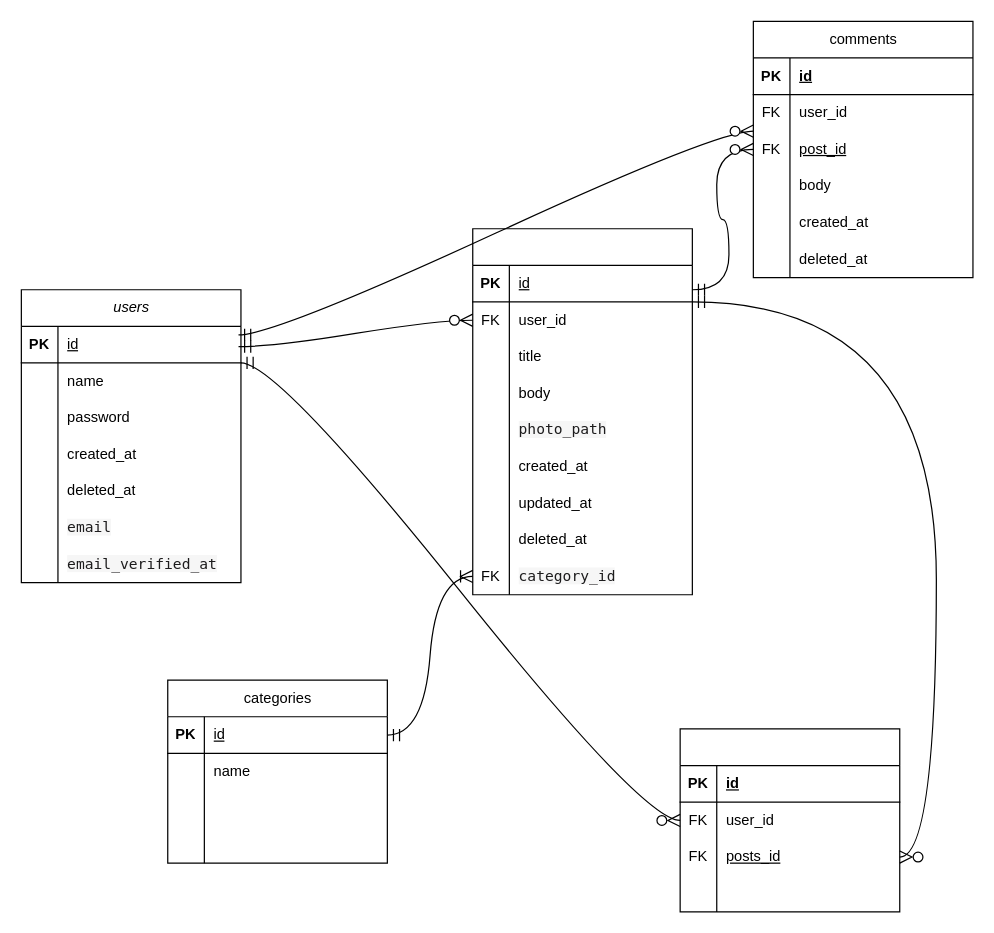
The diagram is 994 pixels wide and 933 high, and some of its shapes have lost their labels. Each missing label, with the box of its shape:
likes: (679, 728, 900, 912)
posts: (472, 228, 692, 595)
